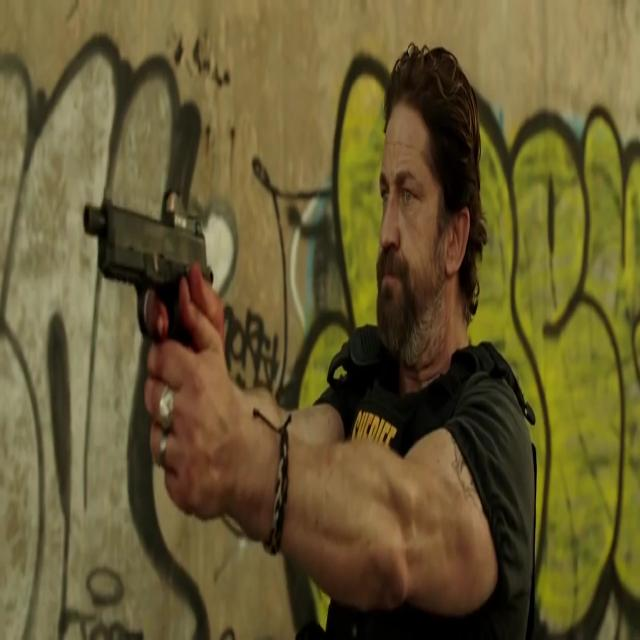Weapon: (64, 158, 259, 395)
